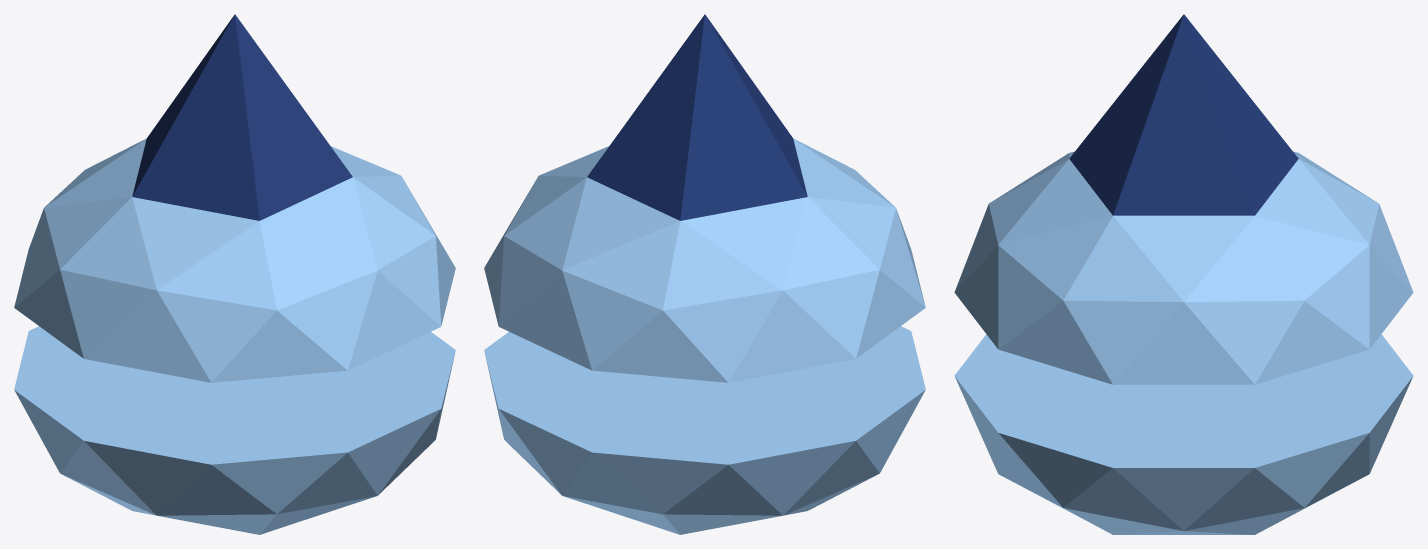
The model's file is aironopen.fbx.
3 renders of one model, left to right at view 1: azimuth 30°, elevation 25°; view 2: azimuth 150°, elevation 25°; view 3: azimuth 270°, elevation 25°, orthographic.
Parts seen in each view (by area): view 1: Icosphere.001, Icosphere; view 2: Icosphere.001, Icosphere; view 3: Icosphere.001, Icosphere.
Part boxes in pixels (<box>): Icosphere.001: <box>14,14,455,382</box>; Icosphere: <box>14,326,455,534</box>; Icosphere.001: <box>484,14,925,382</box>; Icosphere: <box>484,326,925,534</box>; Icosphere.001: <box>954,14,1413,384</box>; Icosphere: <box>954,334,1413,534</box>.
Bounding box in the file's own units: 285 × 346 × 300.
